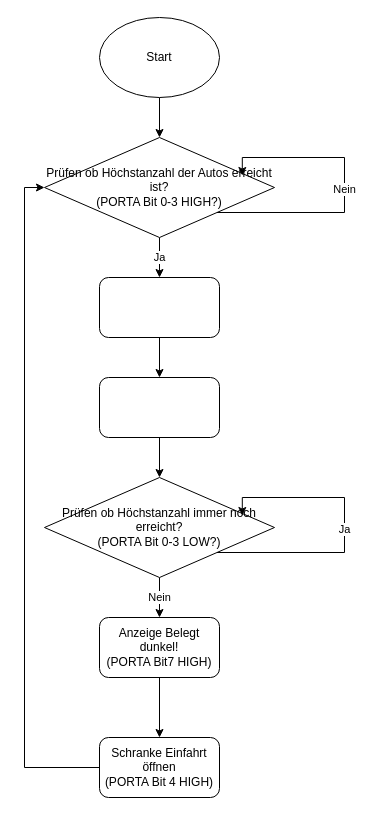
Image size: 373x815. Some labels were removed from this diagram. Here are the shapes that lost their labels. From the top down, the centre of each, then its label:
the point at 159,307: Anzeige Belegt leuchten! (PORTA Bit7 HIGH)
the point at 159,407: Einfahrtsschranke sperren! (PORTA bit4 LOW)
